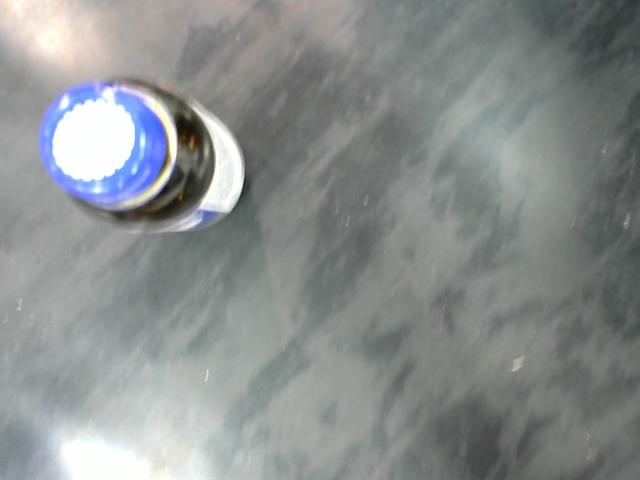glass: (42, 67, 260, 245)
